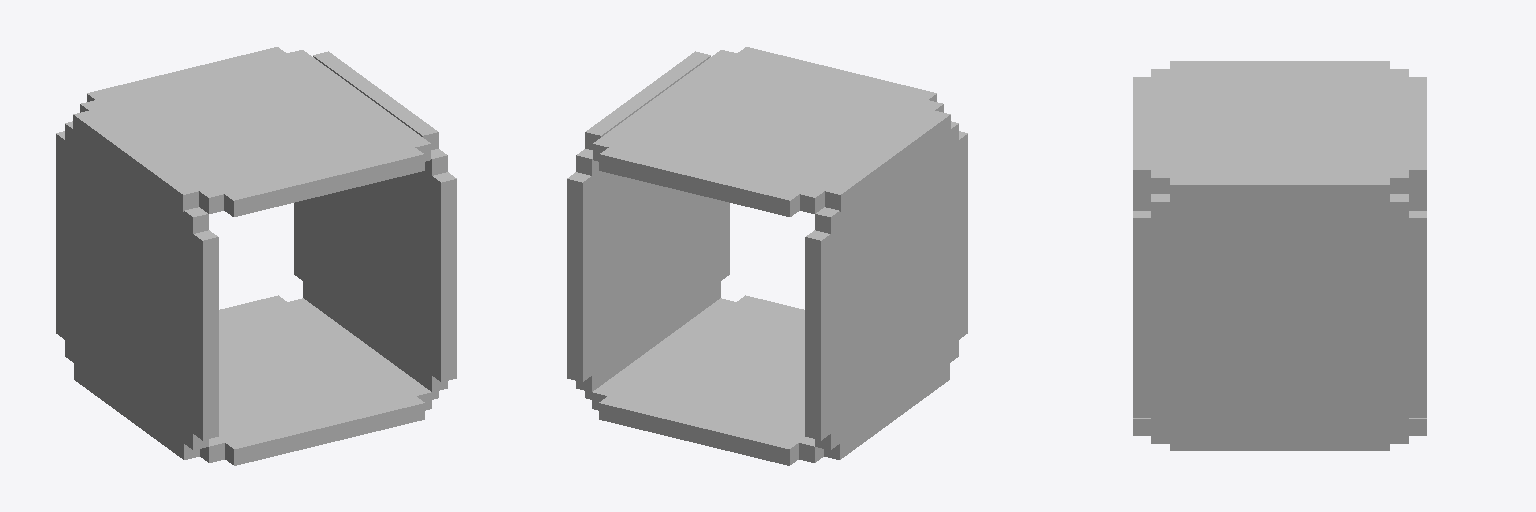
3 views of the same model, side by side, from view 1: azimuth 30°, elevation 25°; view 2: azimuth 150°, elevation 25°; view 3: azimuth 270°, elevation 25° (orthographic).
Parts seen in each view (by area): view 1: obj_0; view 2: obj_0; view 3: obj_0.
Boxes of the visible parts, x1=… form: obj_0: x1=56, y1=47, x2=456, y2=465; obj_0: x1=567, y1=47, x2=967, y2=465; obj_0: x1=1133, y1=61, x2=1426, y2=450.
Bounding box in the file's own units: 321 × 320 × 320.